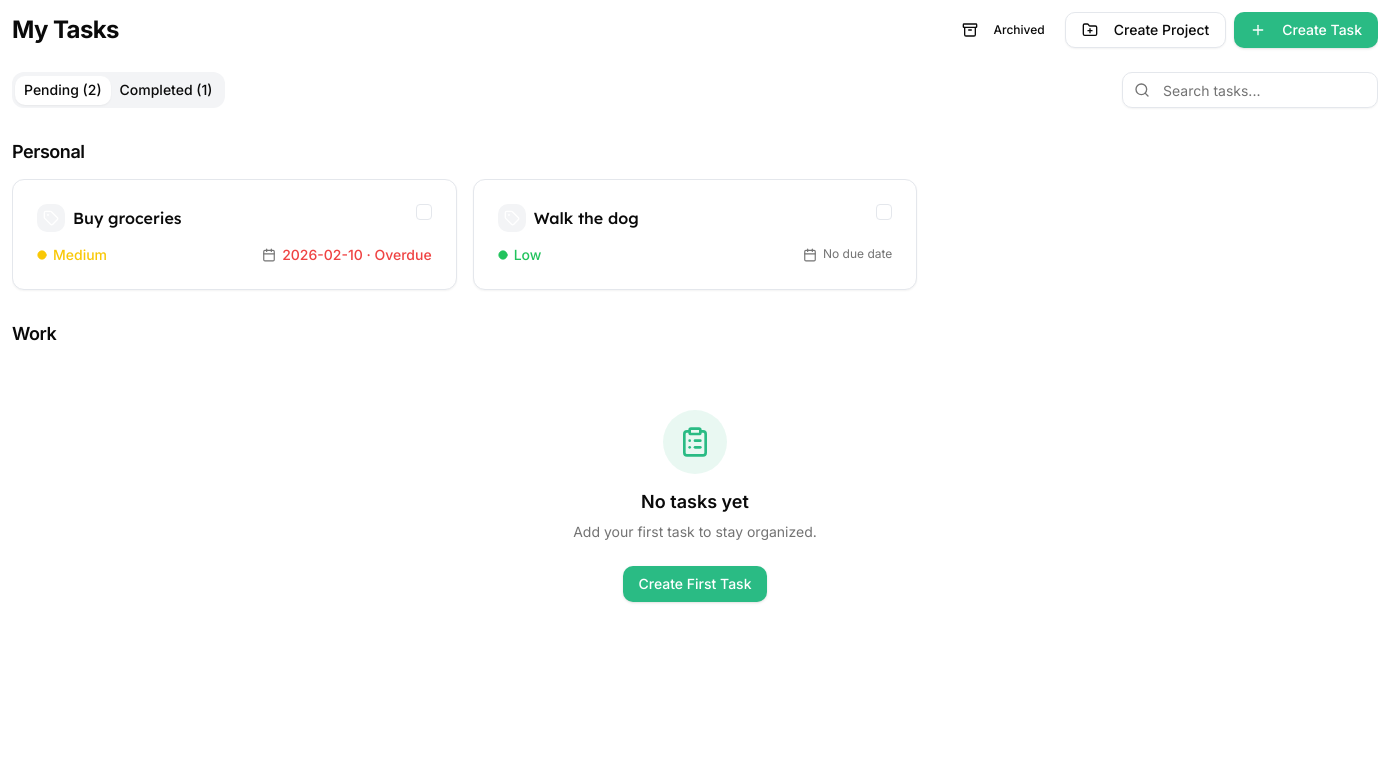
Scenario: TasksPageContent › search input filters tasks by title
Expected: the heading "Buy groceries" is shown, 73,206 -> 182,230
Expected: the heading "Walk the dog" is shown, 534,206 -> 639,230
Type a search query that only matches one task
Type "groceries" into the field labelled "Search tasks..." at [1250, 90], box 1122,72 -> 1378,108
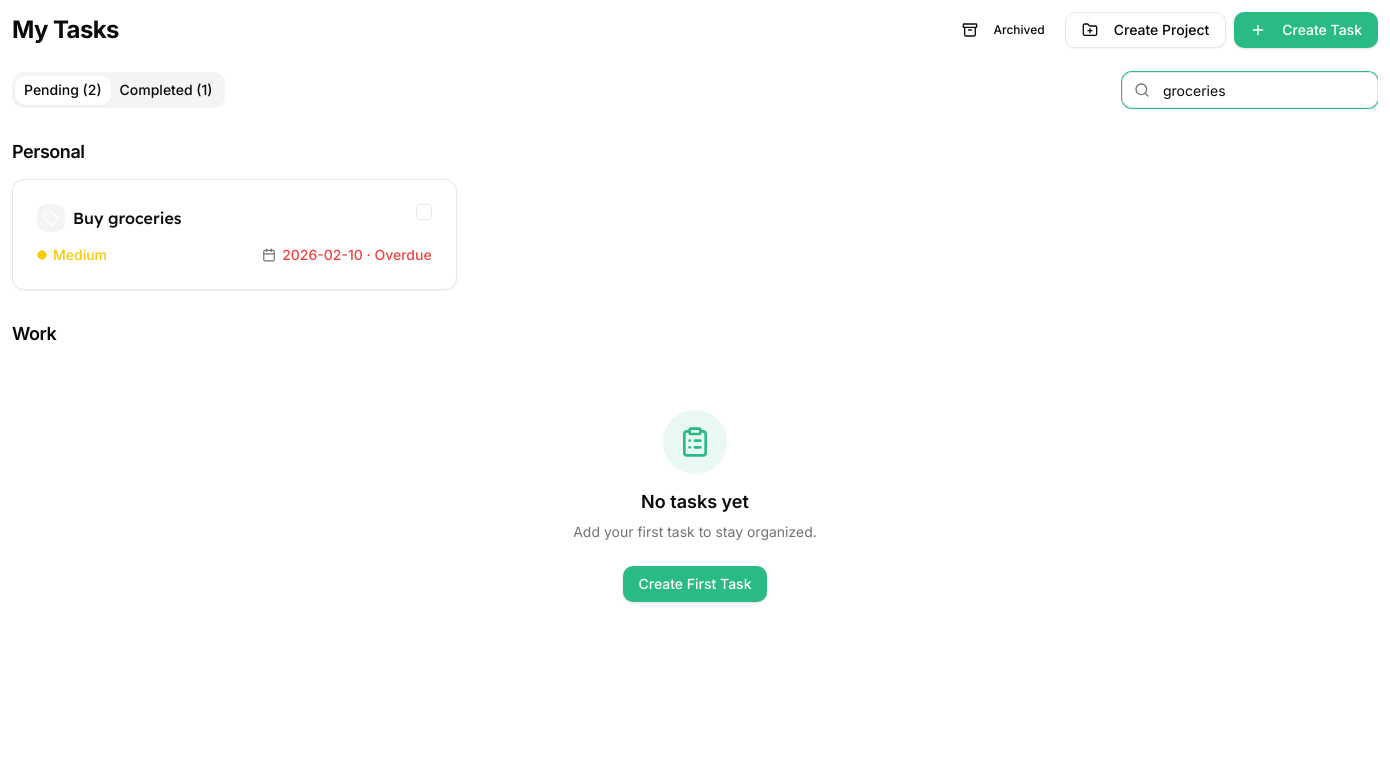
Expected: the heading "Buy groceries" is shown, 73,206 -> 182,230
Result: the button "Walk the dog" is gone
